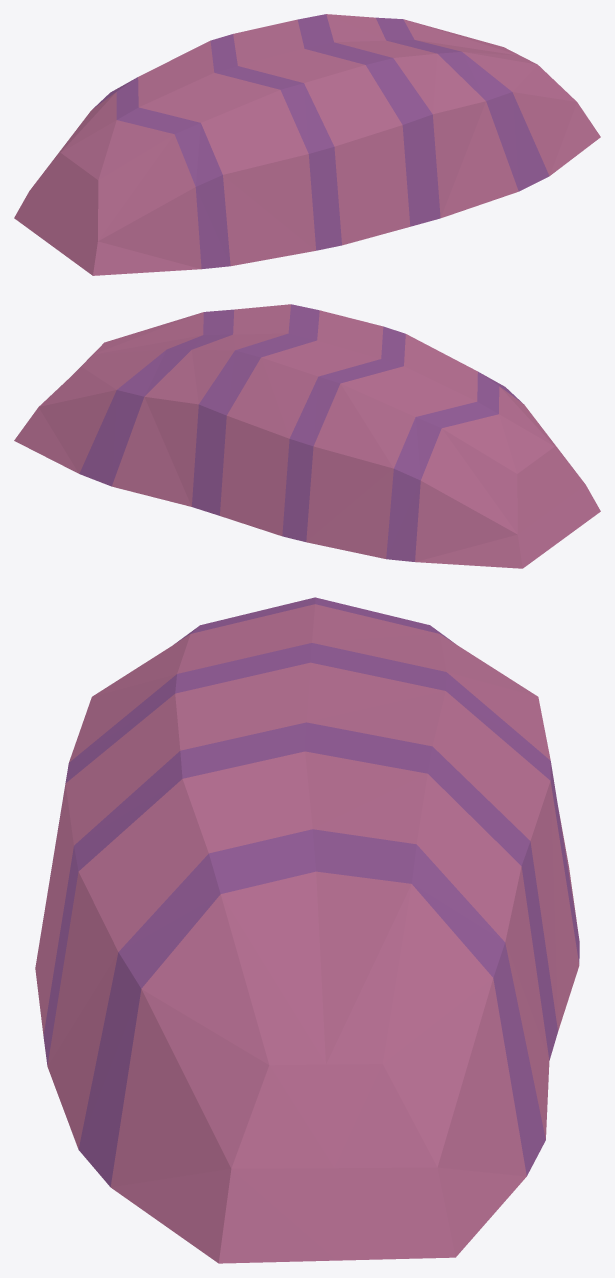
Rendered from Sashimi_Salmon2.glb.
3 renders of one model, top to bottom at view 1: azimuth 30°, elevation 25°; view 2: azimuth 150°, elevation 25°; view 3: azimuth 270°, elevation 25°, orthographic. The views are drawn at different scales.
Parts seen in each view (by area): view 1: Salmon2; view 2: Salmon2; view 3: Salmon2.
Boxes of the visible parts, <box> form: Salmon2: <box>14,14,600,275</box>; Salmon2: <box>14,304,600,568</box>; Salmon2: <box>35,597,579,1263</box>.
Size of the model in its own units: 0.5976 by 0.1518 by 0.2715.
